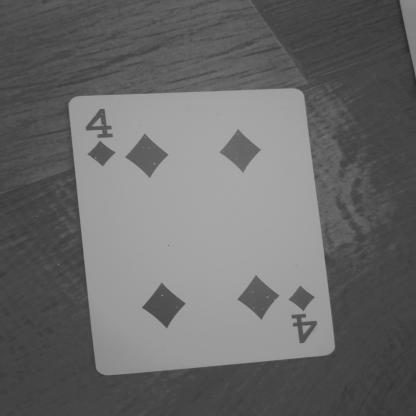4D: (276, 274, 338, 348), (80, 104, 126, 174)
